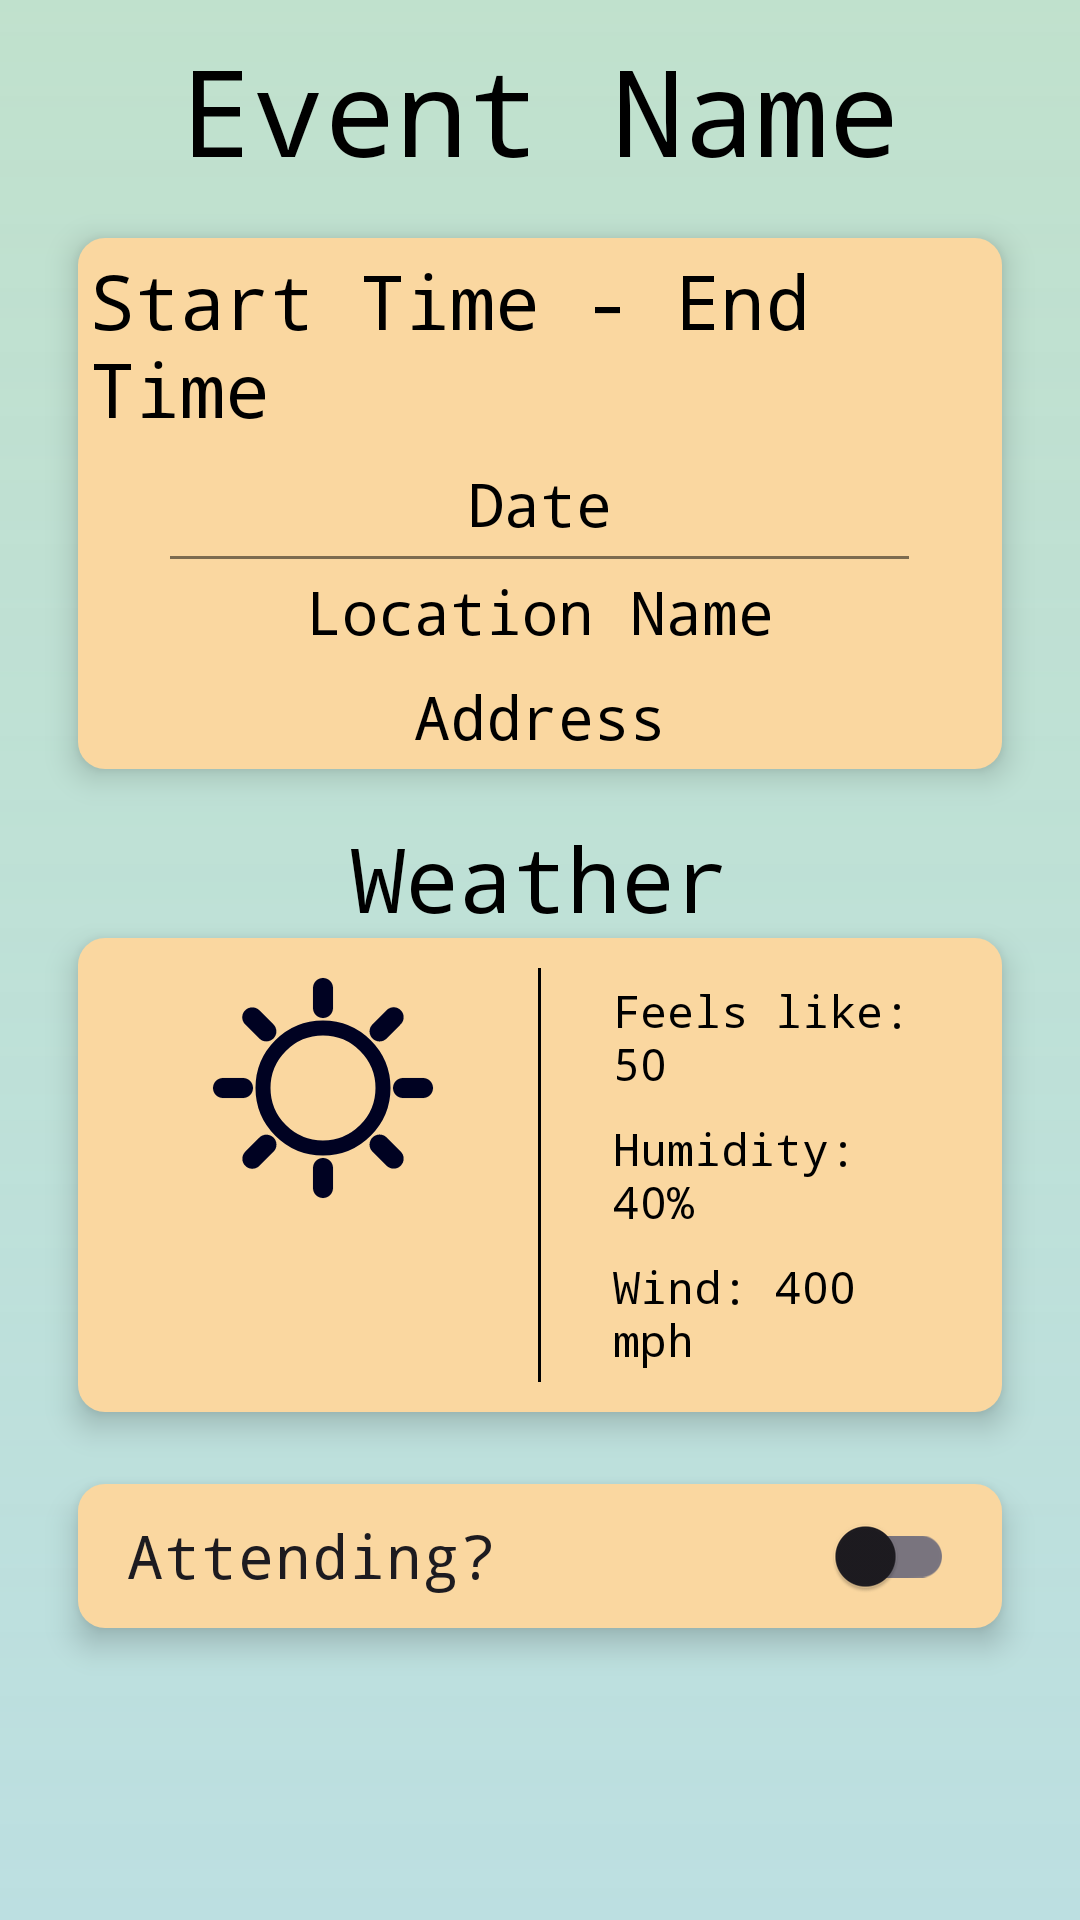

Where icons sit on this 1080*1920 app screen, as (x1, y1, x2, y2):
sunny: (213, 978, 433, 1198)
